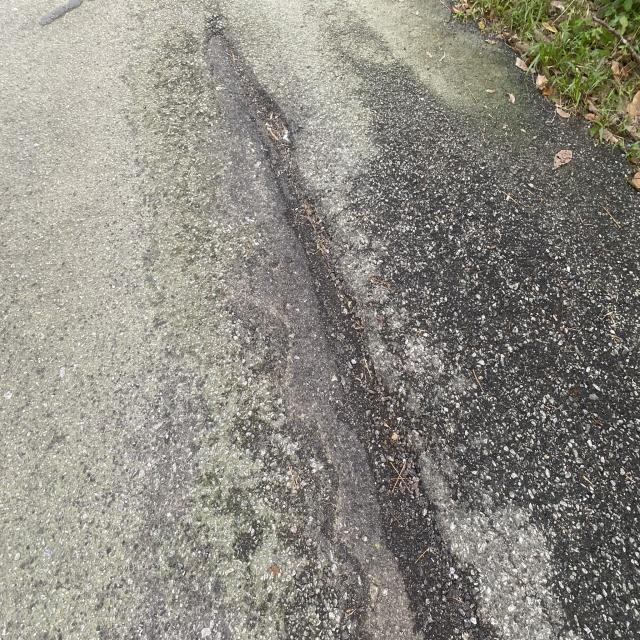Pothole: (173, 3, 428, 640)
